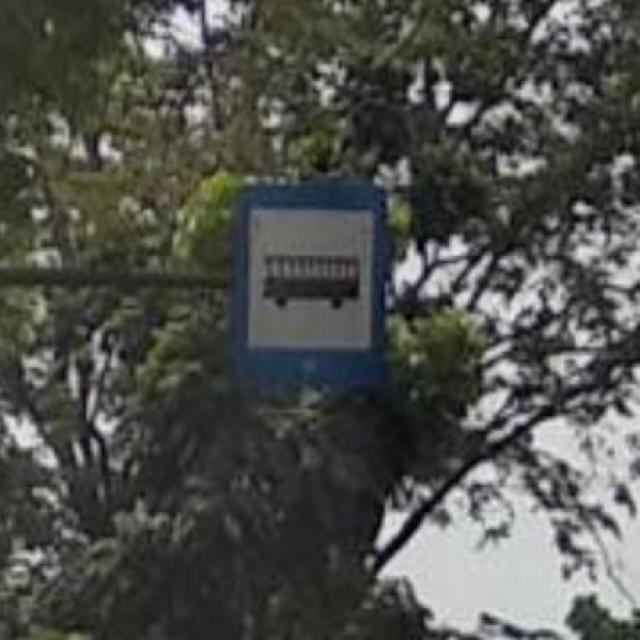traffic sign: (226, 180, 388, 384)
